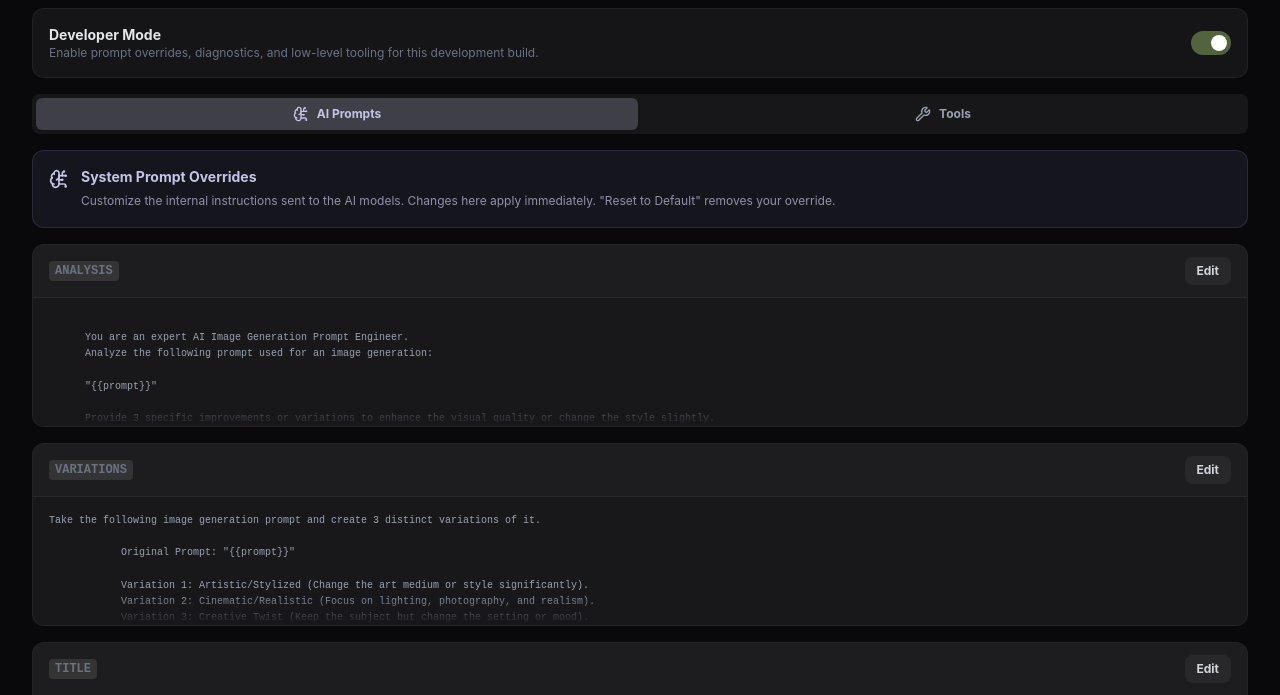
it: DevTab › edits, cancels, and saves a default prompt override
Click the 1st button "Edit": (1208, 270) [1184, 256, 1231, 284]
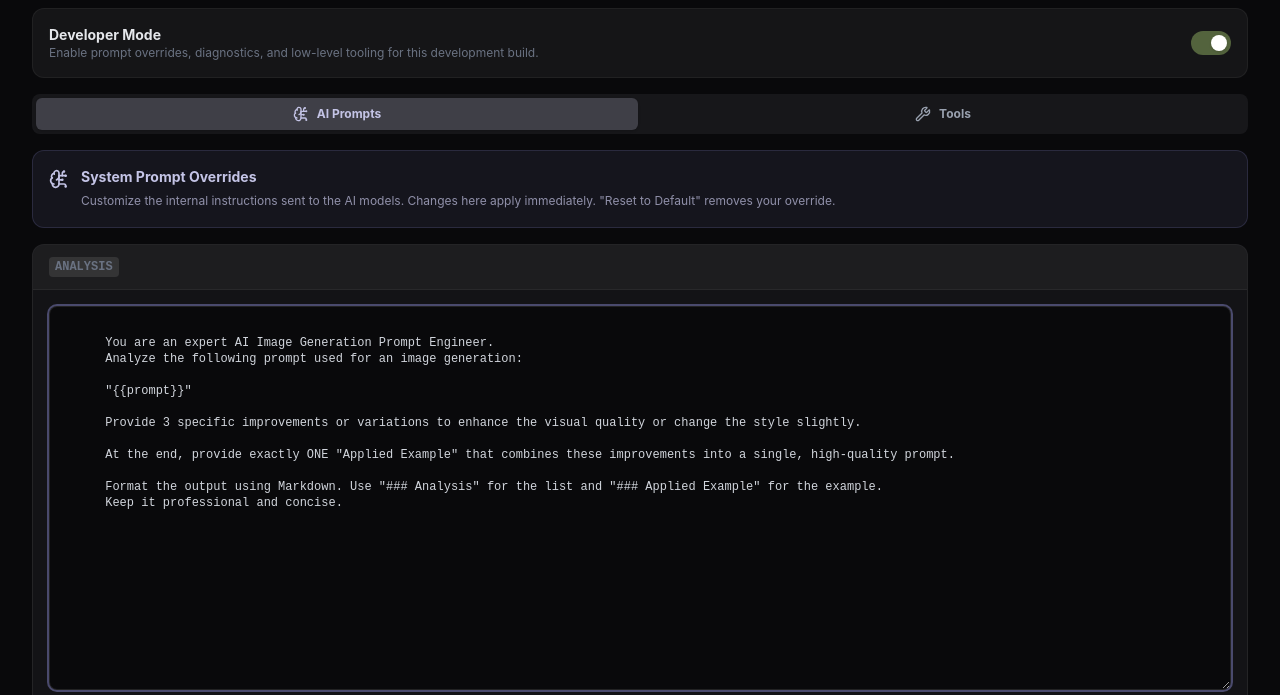
Replace the text in the text box with "custom analysis prompt": (640, 498) [49, 306, 1231, 690]
(page scrolled)
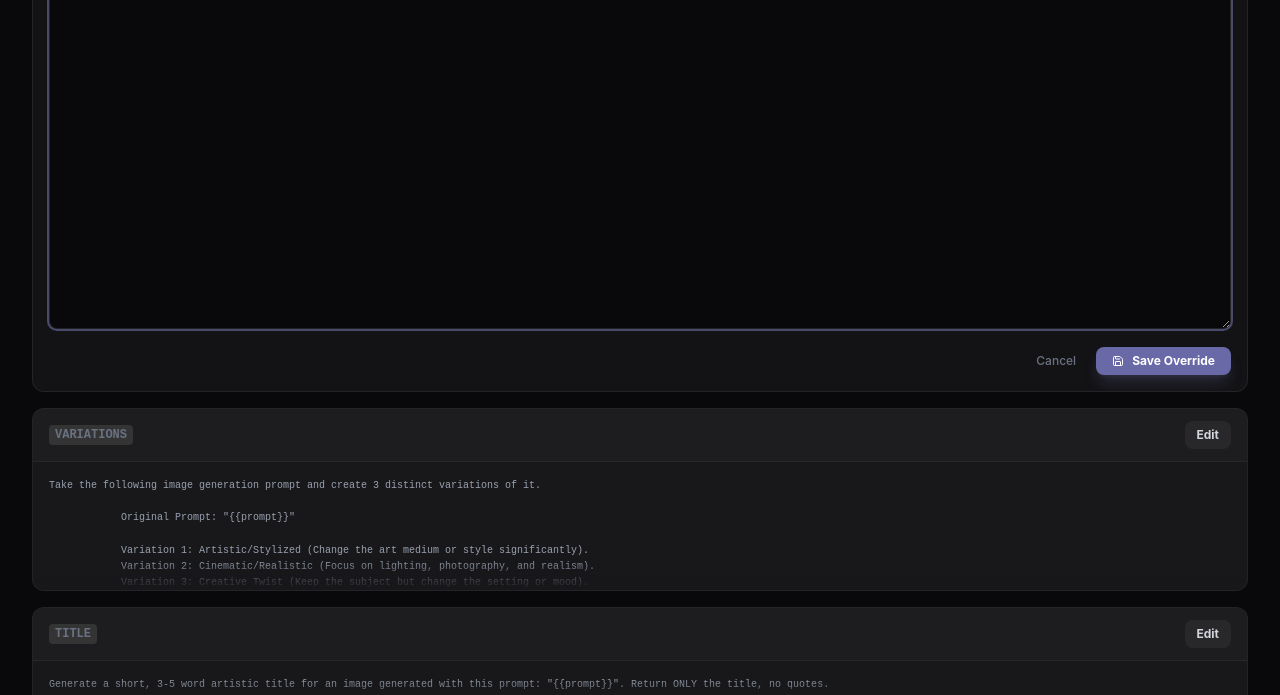
Click the button "Cancel": (1056, 360) [1024, 346, 1088, 374]
(page scrolled)
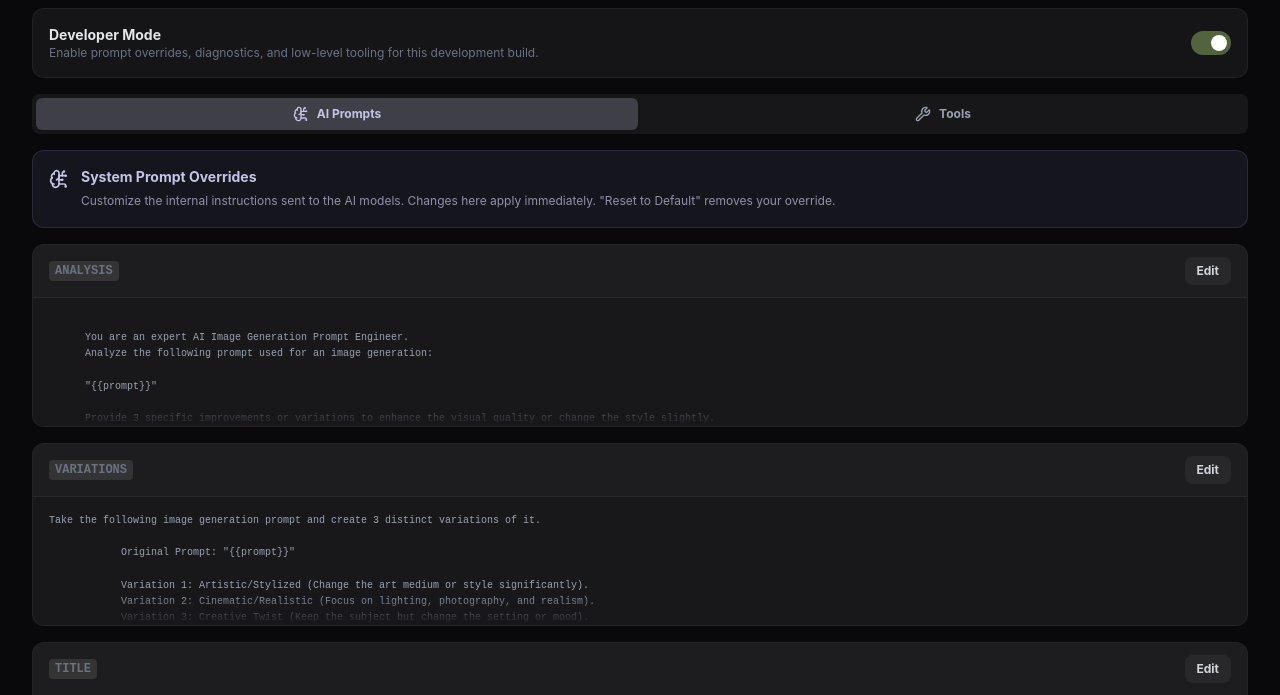
Click the 1st button "Edit": (1208, 270) [1184, 256, 1231, 284]
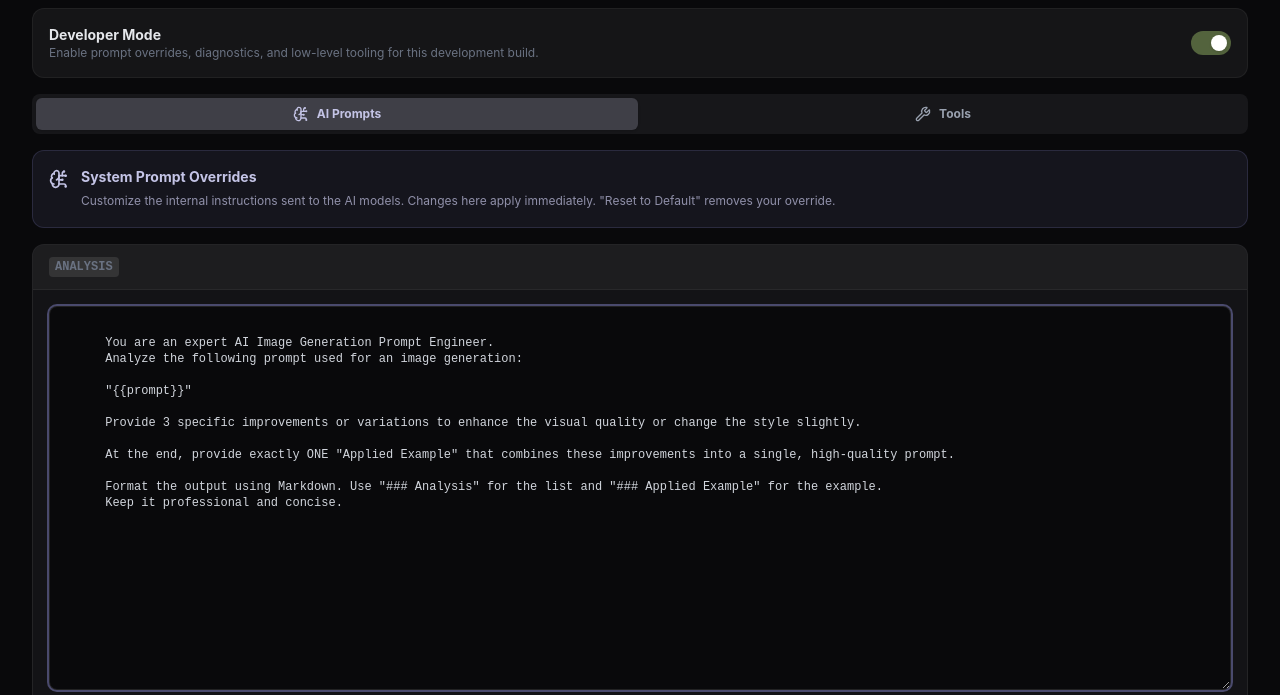
Replace the text in the text box with "saved prompt": (640, 498) [49, 306, 1231, 690]
(page scrolled)
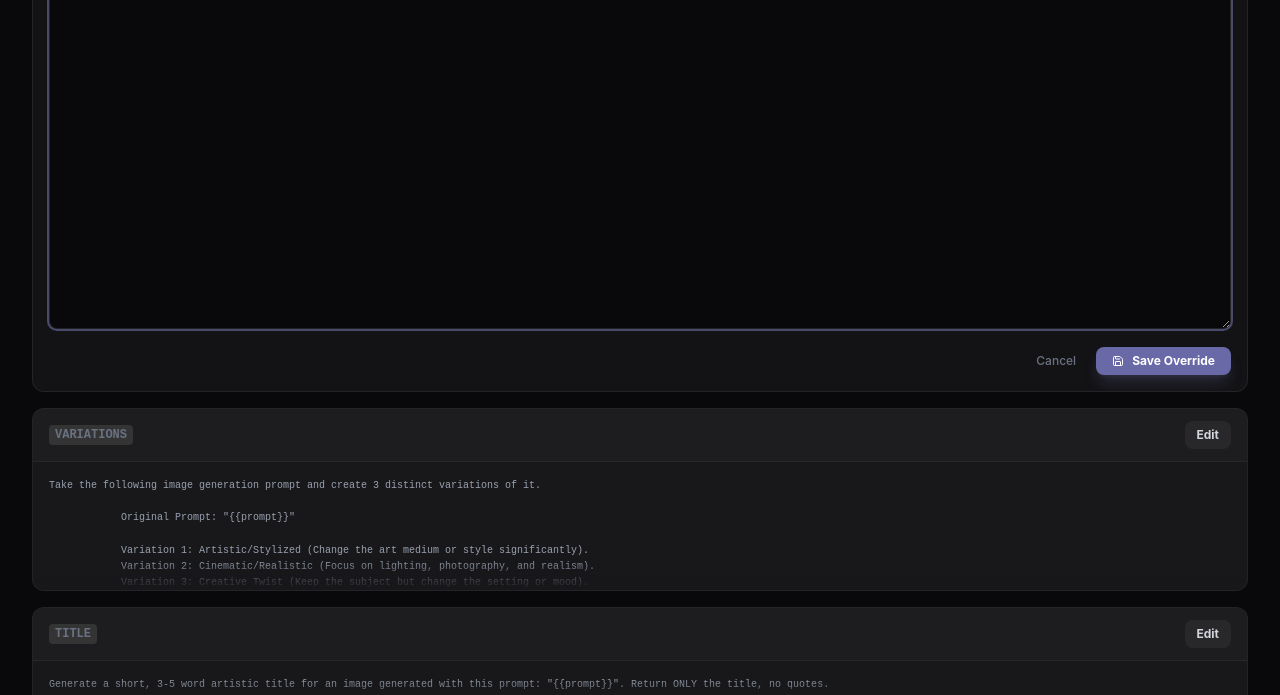
Click the button "Save Override": (1164, 360) [1096, 346, 1231, 374]
(page scrolled)
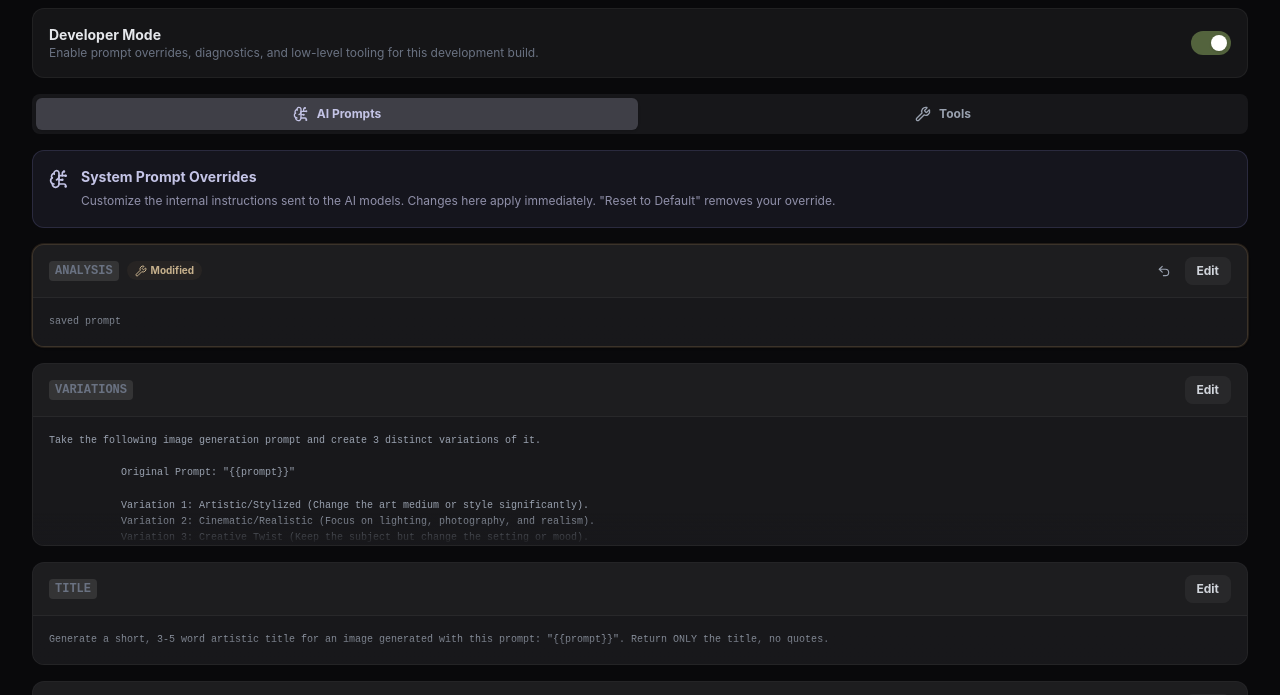
Result: the text "saved prompt" is shown at [49, 316, 121, 326]
